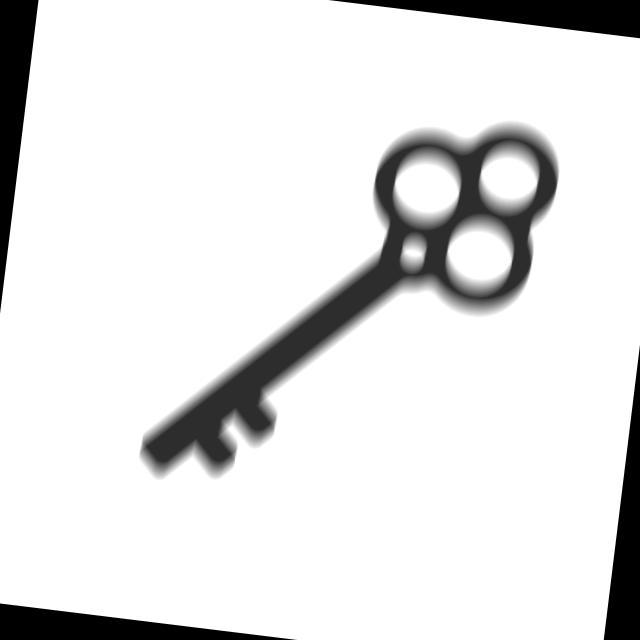key: (129, 71, 574, 529)
